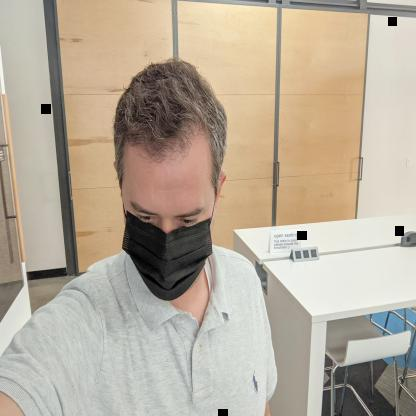mask: (118, 139, 215, 302)
